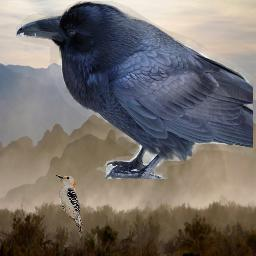Crow: (16, 1, 253, 179)
Woodpecker: (55, 172, 85, 238)
